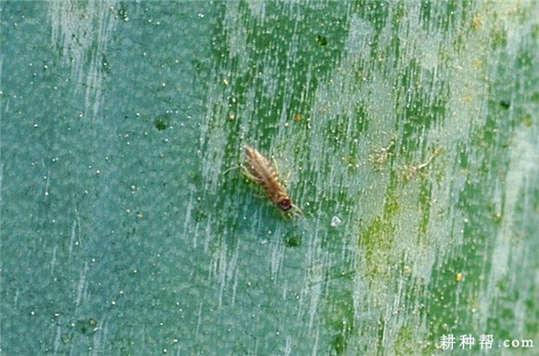tiny_pests: (216, 126, 314, 230)
